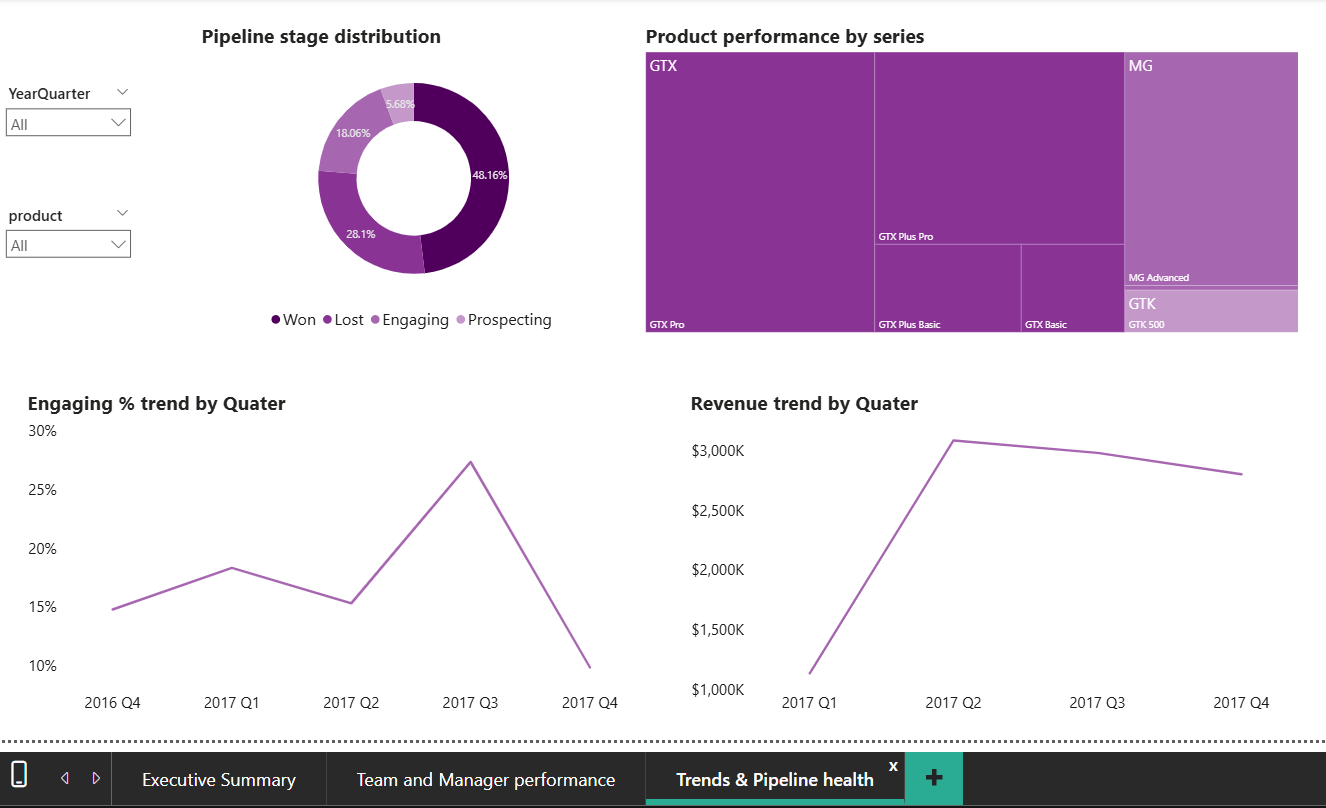

The page's visual inventory and layout, read from the dashboard file:
{"tool":"powerbi","page":{"name":"Trends & Pipeline health","canvas":[1650,920],"ordinal":2},"visuals":[{"type":"slicer","fields":{"Values":["Dates.YearQuarter"]},"box":[0,100,174.5,87.2],"z":0},{"type":"slicer","fields":{"Values":["Sales_Pipeline.product"]},"box":[0,251.1,174.5,87.2],"z":1000},{"type":"lineChart","title":"Revenue trend by Quater","fields":{"Y":["Sales_Pipeline.Total Sales"],"Category":["Dates.YearQuarter"]},"box":[853,484.7,764.1,410.6],"z":2000},{"type":"lineChart","title":"Engaging % trend by Quater","fields":{"Y":["Accounts.Engaging %"],"Category":["Dates.YearQuarter"]},"box":[31.7,484.7,766.2,410.6],"z":3000},{"type":"donutChart","title":"Pipeline stage distribution","fields":{"Category":["Sales_Pipeline.deal_stage"],"Y":["CountNonNull(Sales_Pipeline.opportunity_id)"]},"box":[246.7,28.9,535.6,391.1],"z":4000},{"type":"treemap","title":"Product performance by series ","fields":{"Group":["Products.series"],"Details":["Products.product"],"Values":["Sales_Pipeline.Total Sales"]},"box":[797.9,29.8,819.1,389.4],"z":5000}]}

Visuals, with their boxes on the page's 1650x920 design canvas (x1, y1, x2, y2). These are canvas units, not pixel positions in the 1326x808 screenshot, which may show the page scaled, cropped or inside an application window:
slicer - Dates.YearQuarter: select_region(0, 100, 174, 187)
slicer - Sales_Pipeline.product: select_region(0, 251, 174, 338)
"Revenue trend by Quater" lineChart: select_region(853, 485, 1617, 895)
"Engaging % trend by Quater" lineChart: select_region(32, 485, 798, 895)
"Pipeline stage distribution" donutChart: select_region(247, 29, 782, 420)
"Product performance by series " treemap: select_region(798, 30, 1617, 419)
